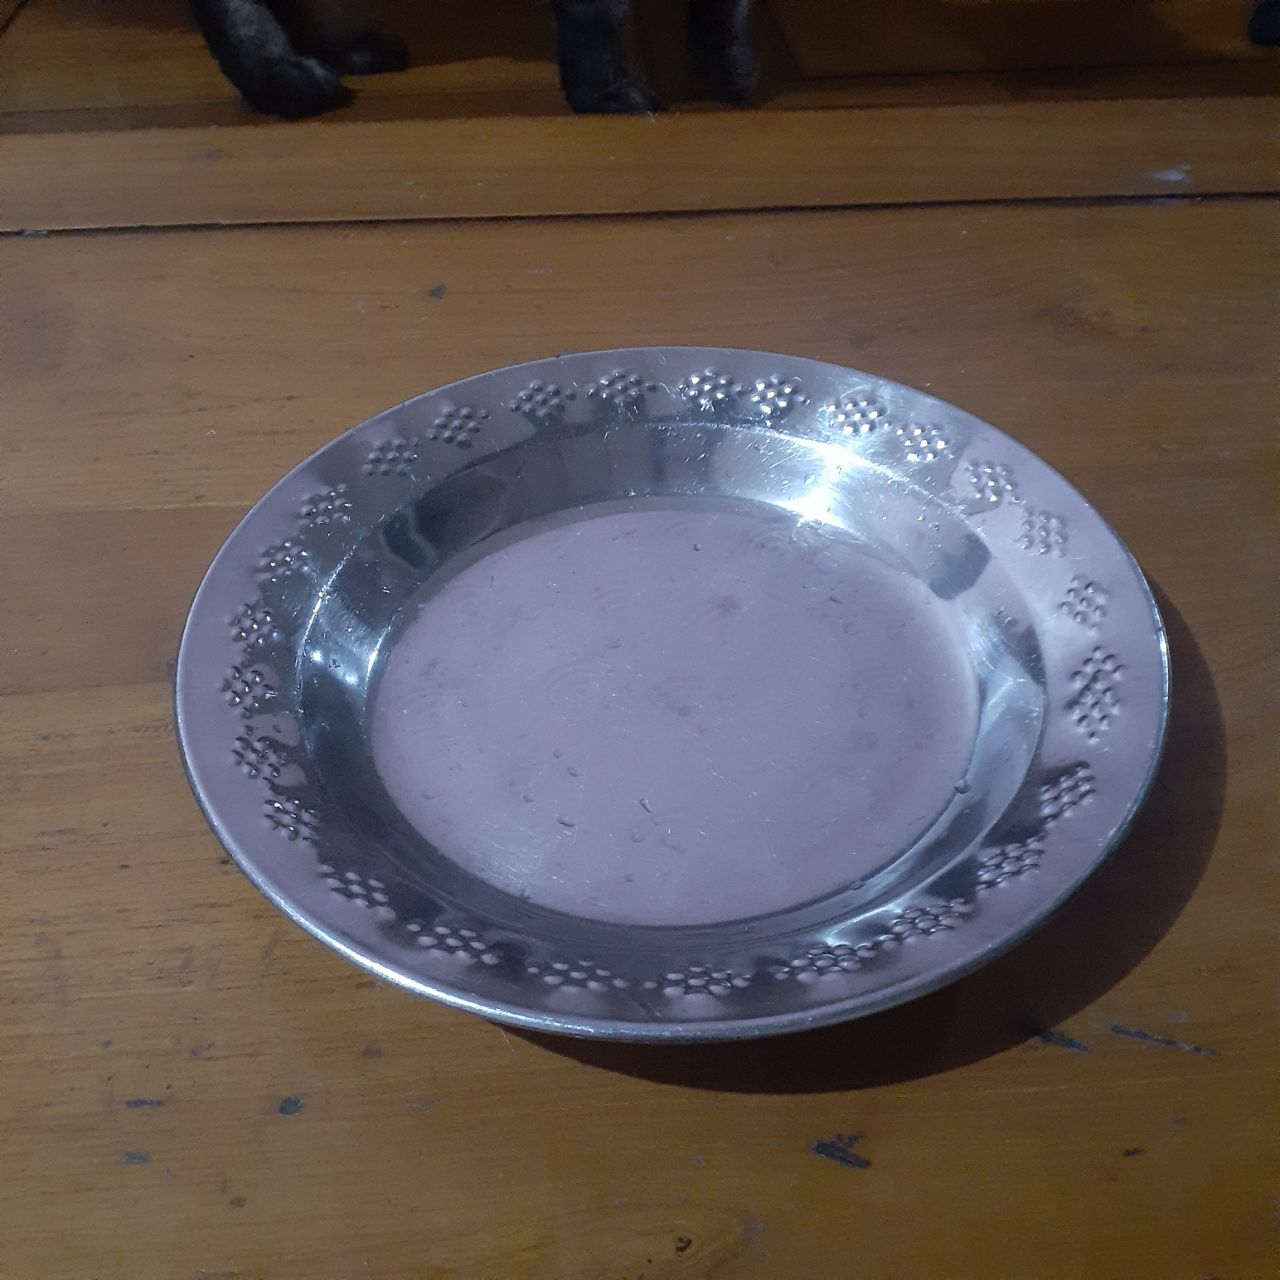piring: (178, 339, 1185, 1035)
